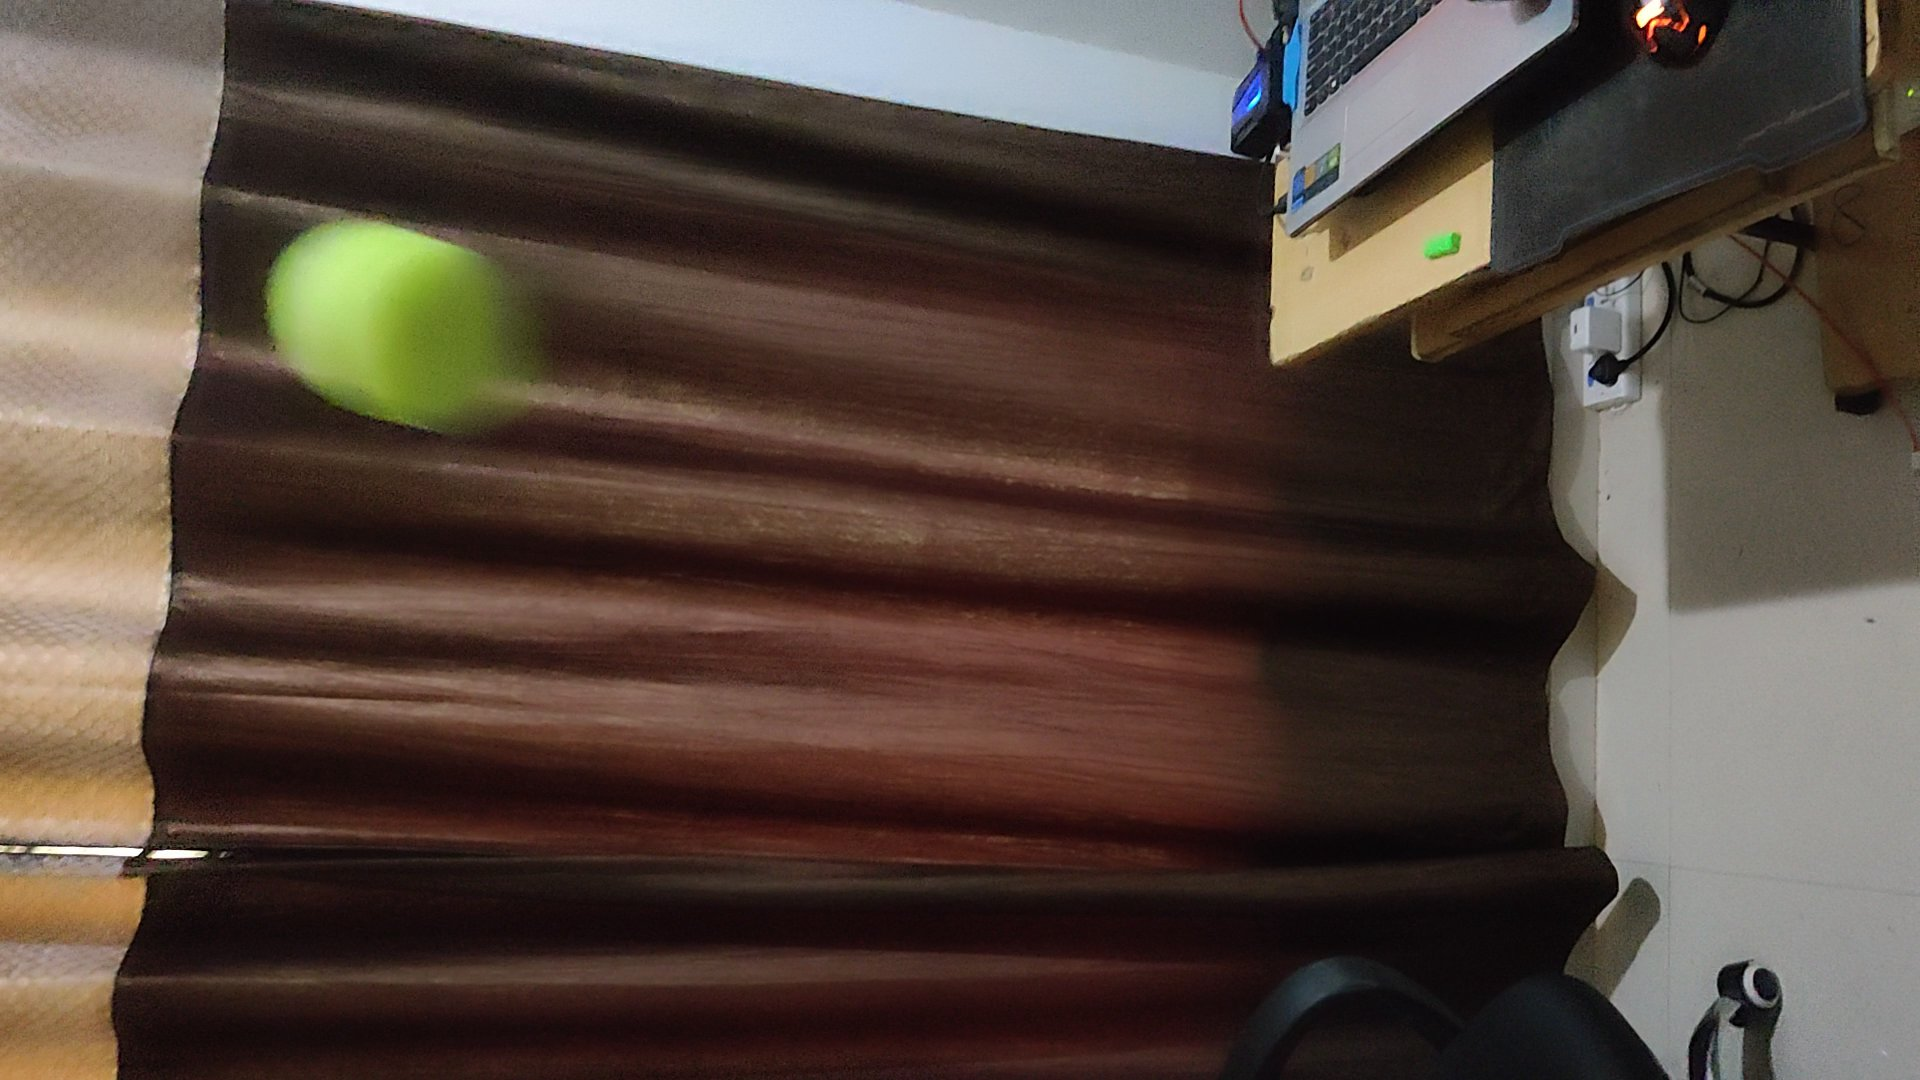Tennis-Ball: (264, 222, 549, 434)
